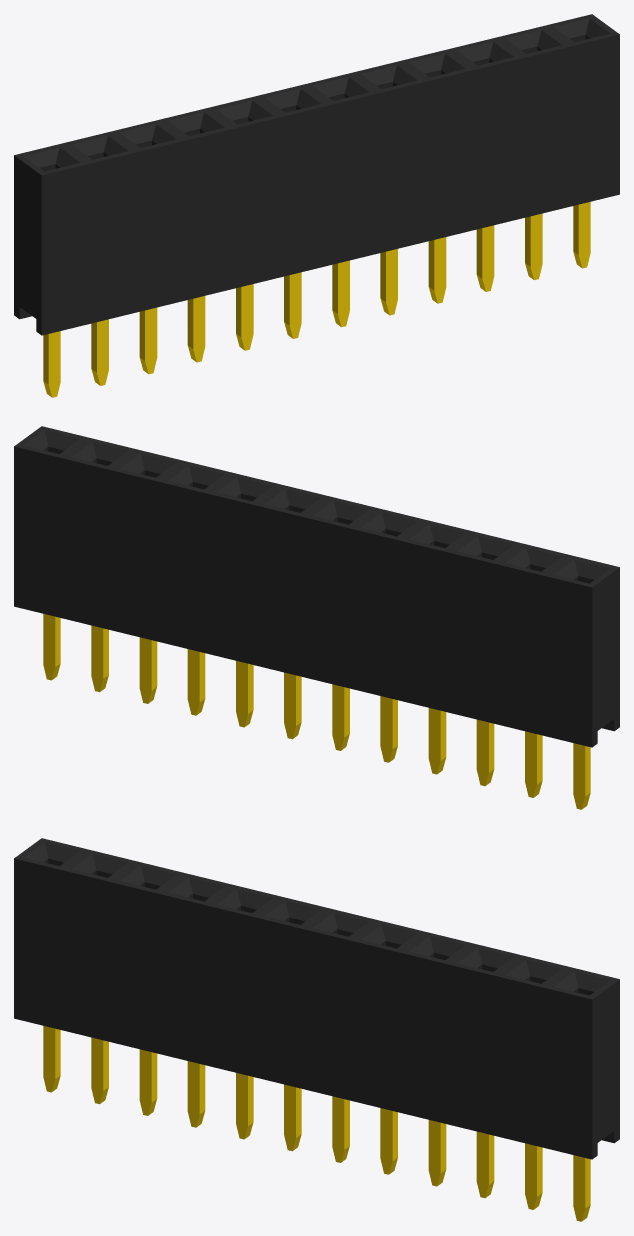
The model's file is PBS2-12.glb.
The picture shows the model from 3 angles, top to bottom: view 1: azimuth 30°, elevation 25°; view 2: azimuth 150°, elevation 25°; view 3: azimuth 330°, elevation 25°; orthographic projection.
Visible parts, largest first — view 1: PBS2 (DS1026-20 CONNFLY); view 2: PBS2 (DS1026-20 CONNFLY); view 3: PBS2 (DS1026-20 CONNFLY).
Boxes of the visible parts, x1,y1,x2,y2 form: PBS2 (DS1026-20 CONNFLY): (14,14,619,397); PBS2 (DS1026-20 CONNFLY): (14,426,619,809); PBS2 (DS1026-20 CONNFLY): (14,838,619,1221).
Bounding box in the file's own units: 0.024 × 0.00935 × 0.002.
